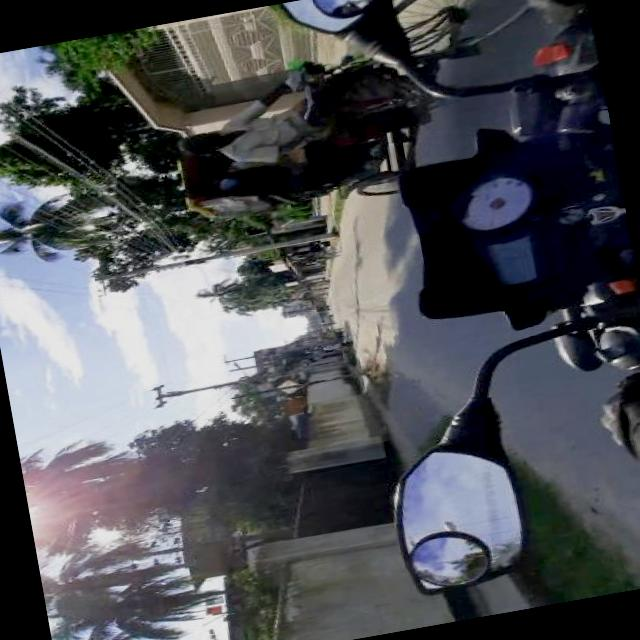car: (318, 314, 331, 324)
motorcycle: (152, 0, 559, 228), (315, 326, 346, 342), (314, 304, 327, 312)
